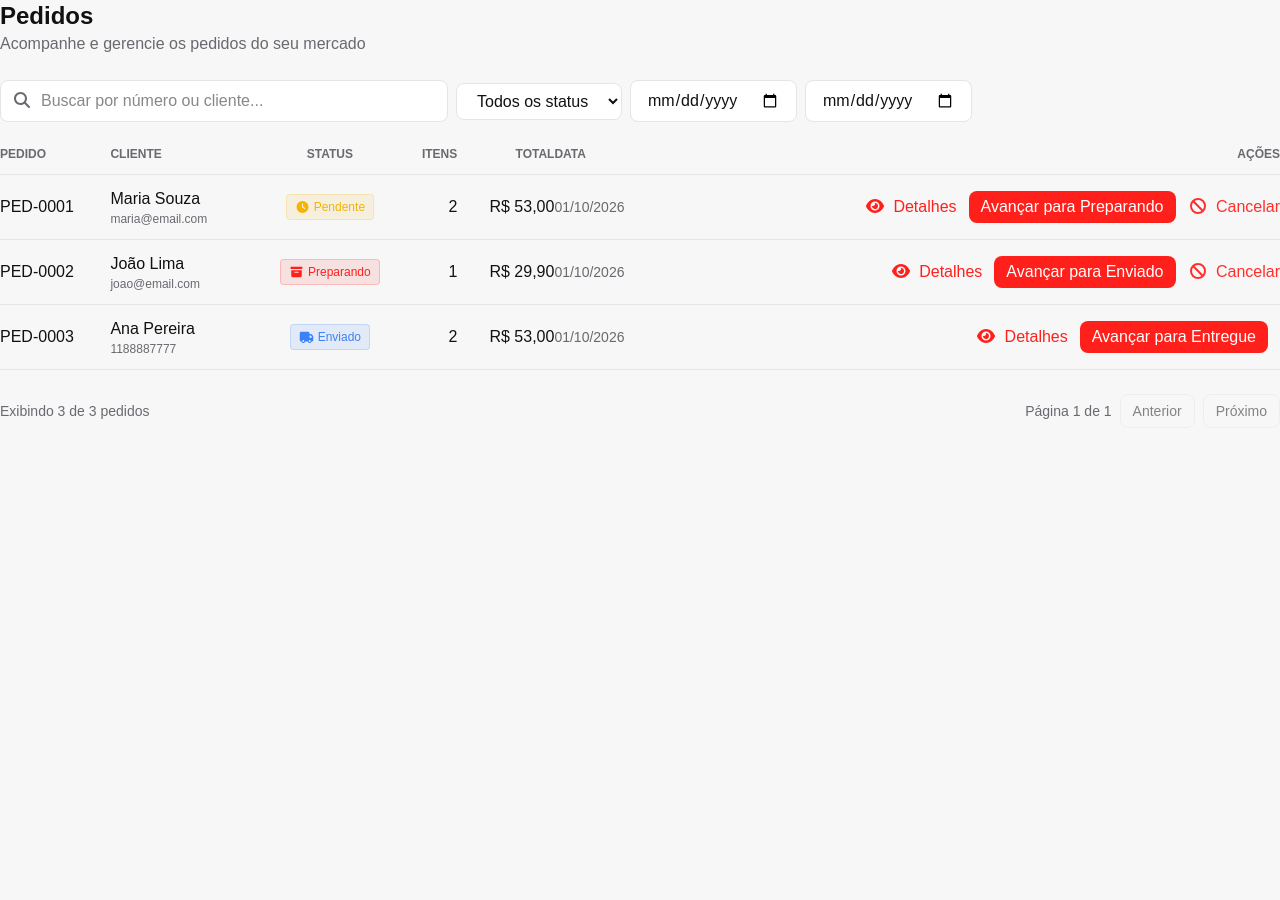
Test: OrdersPage — cancelamento › cancela com motivo, enviando cancelReason no corpo
Check: the button "PED-0001" is shown, box [0,195,74,219]
Click the button "Cancelar" in the row of "Maria Souza" at point(1234, 207), box [1188,195,1279,219]
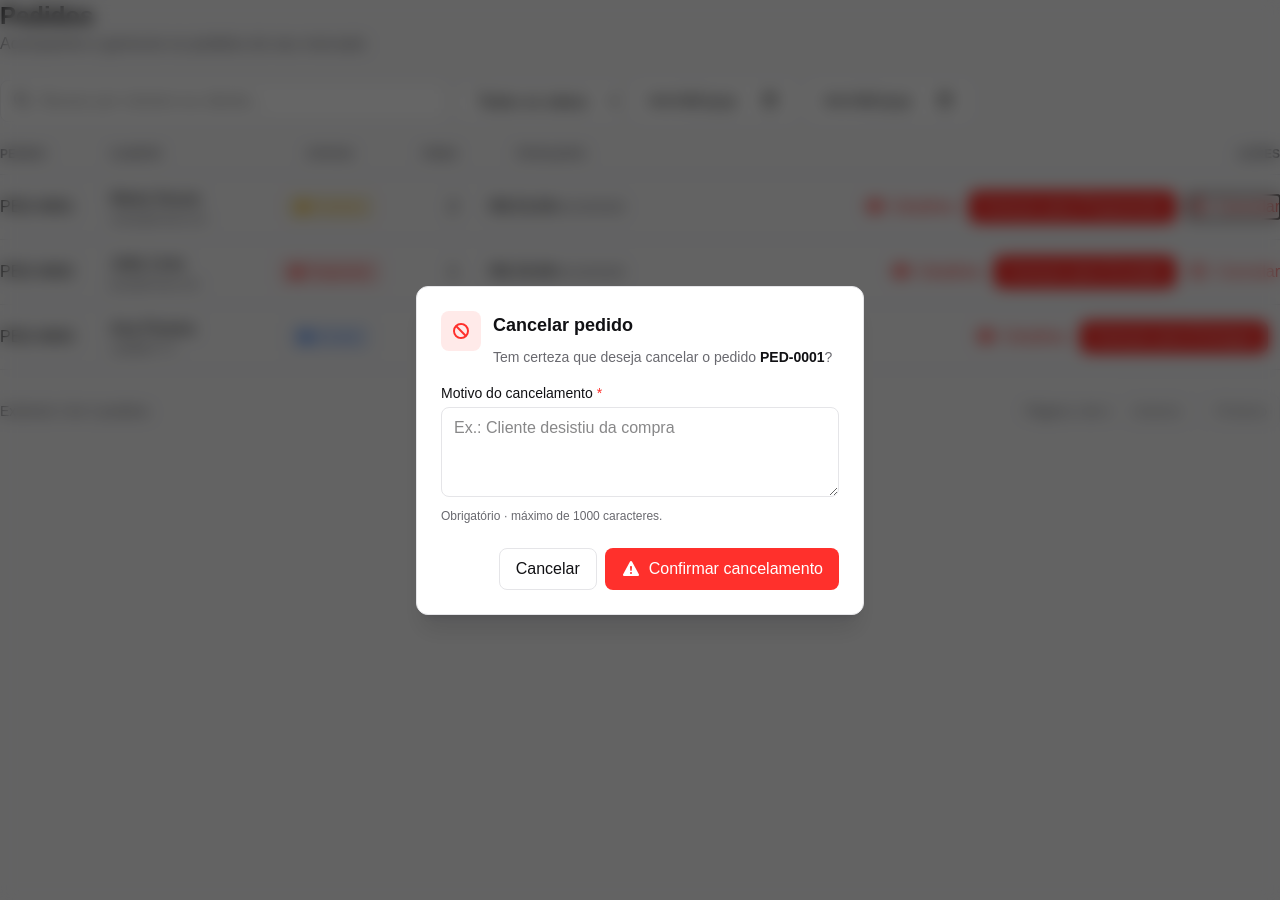
Check: the dialog is shown, box [416,286,864,614]
Type "Cliente desistiu da compra" into the text box labelled "Motivo do cancelamento *" at point(640, 452), box [441,406,839,496]
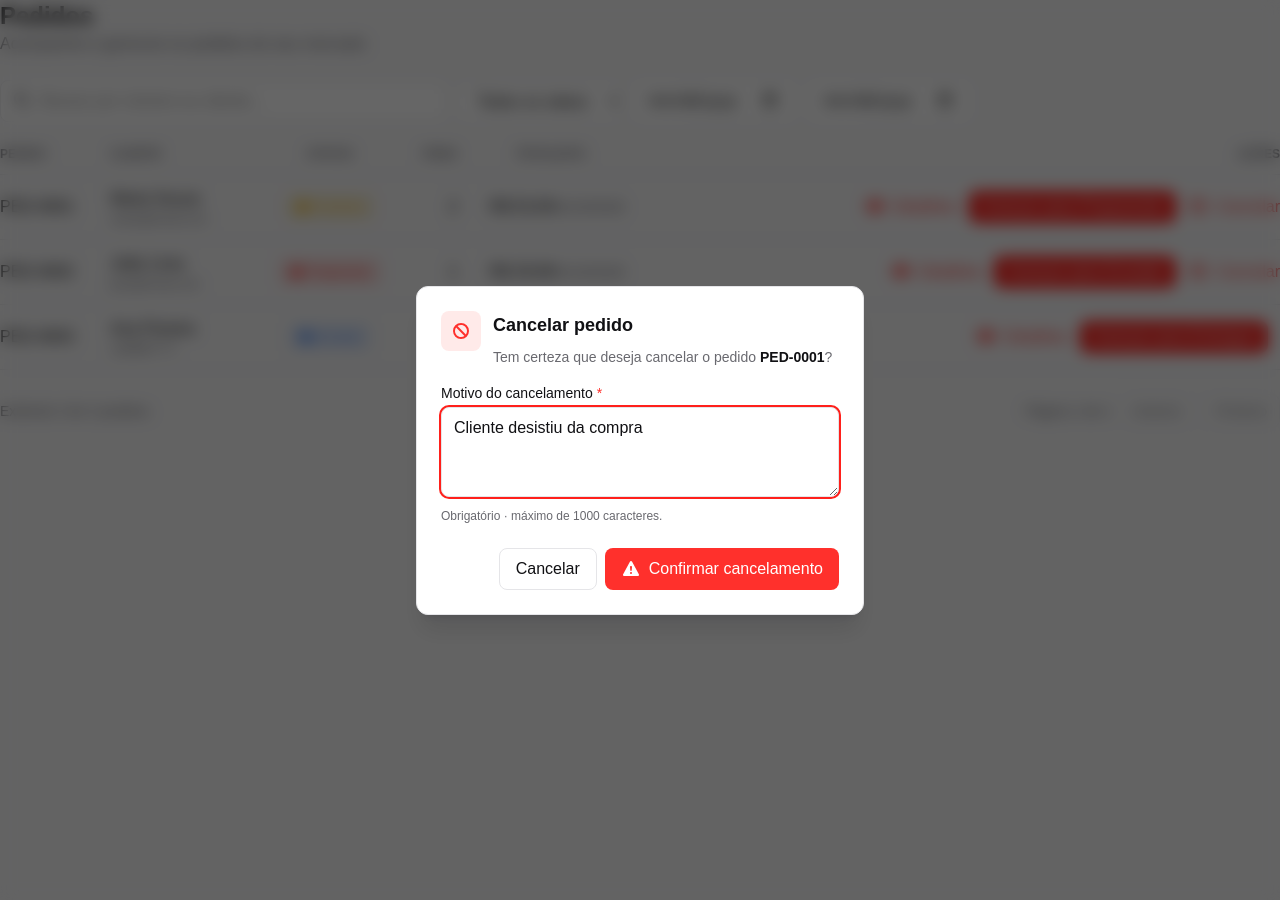
Click the button "Confirmar cancelamento" at point(722, 568), box [605,548,839,590]
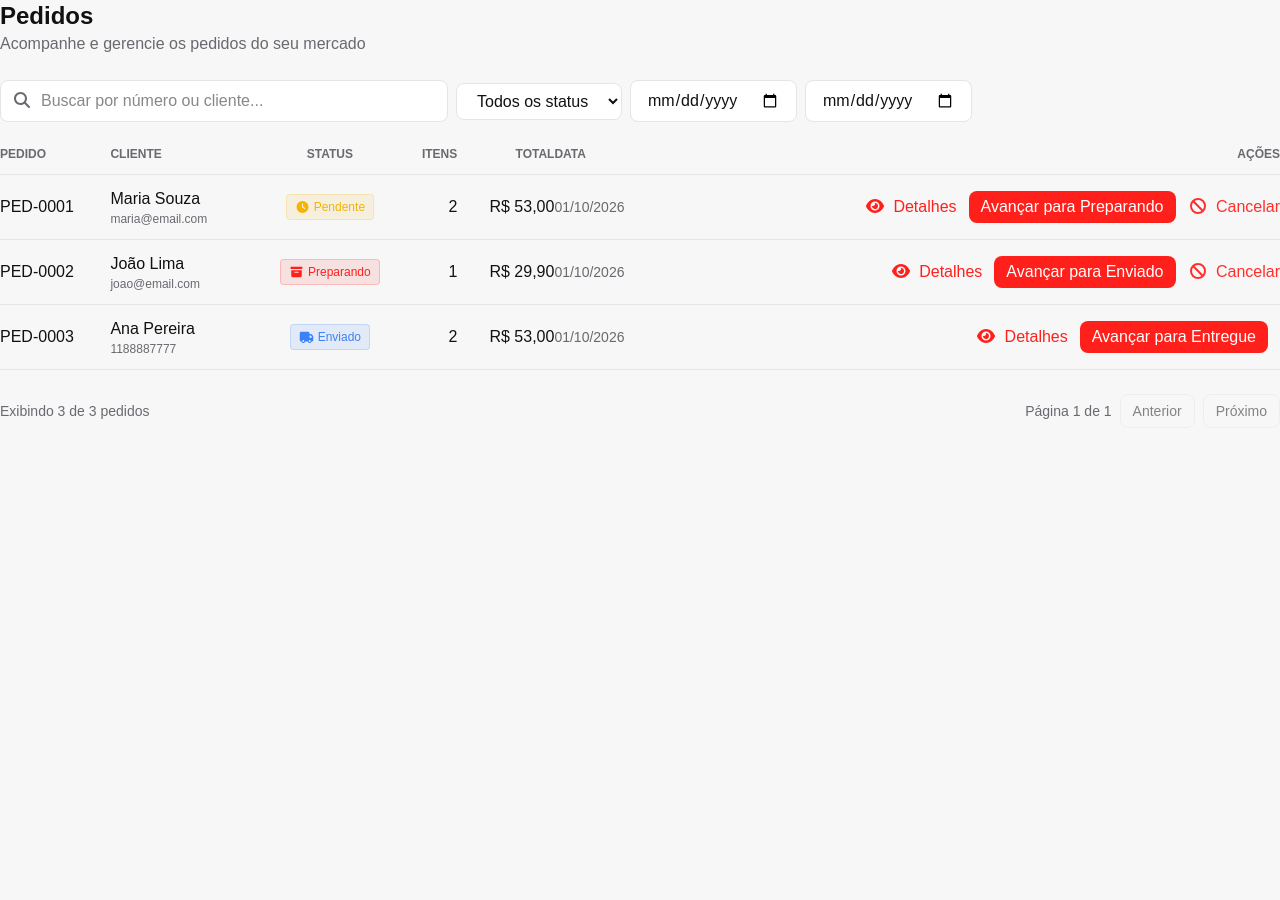
Check: the dialog is gone
